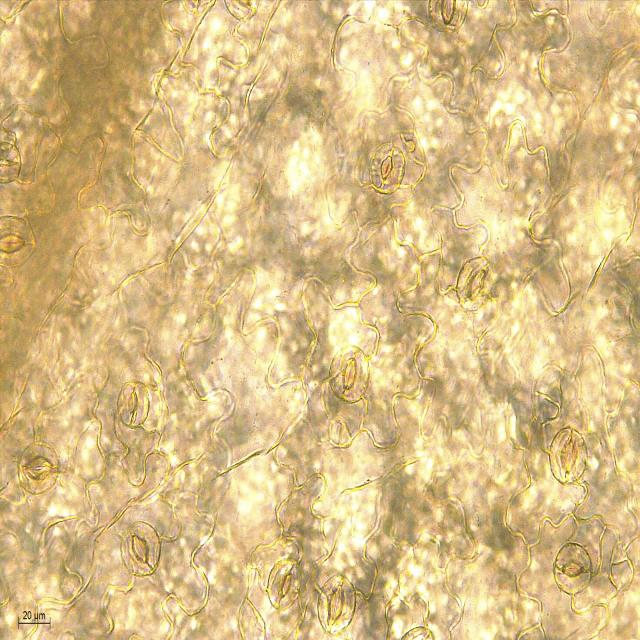Stomata: (324, 342, 374, 404), (314, 569, 359, 636), (454, 253, 498, 319), (547, 422, 591, 488), (550, 539, 598, 599), (117, 519, 163, 580), (17, 439, 62, 496), (260, 555, 304, 613), (366, 140, 410, 197), (0, 212, 38, 273), (114, 377, 152, 431), (425, 0, 472, 36), (0, 136, 26, 187)
